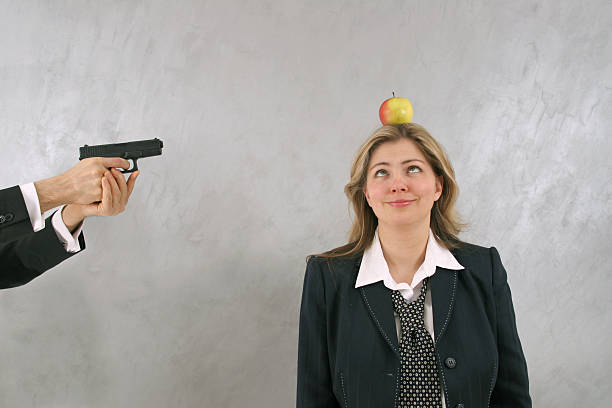gun: (79, 136, 164, 175)
